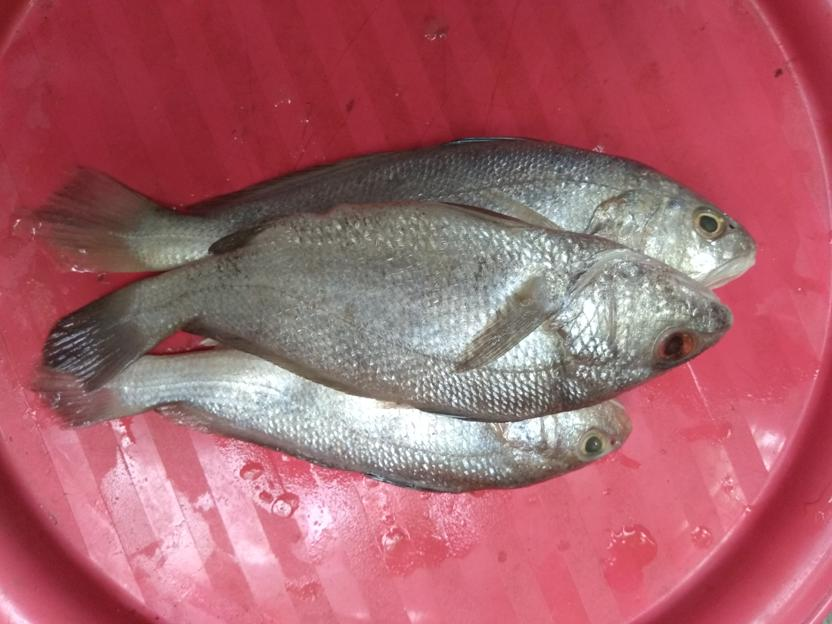Fish head: (560, 249, 730, 387), (591, 183, 761, 292), (503, 397, 634, 482)
Fish tail: (24, 160, 164, 274), (42, 276, 155, 396), (27, 351, 153, 430)
